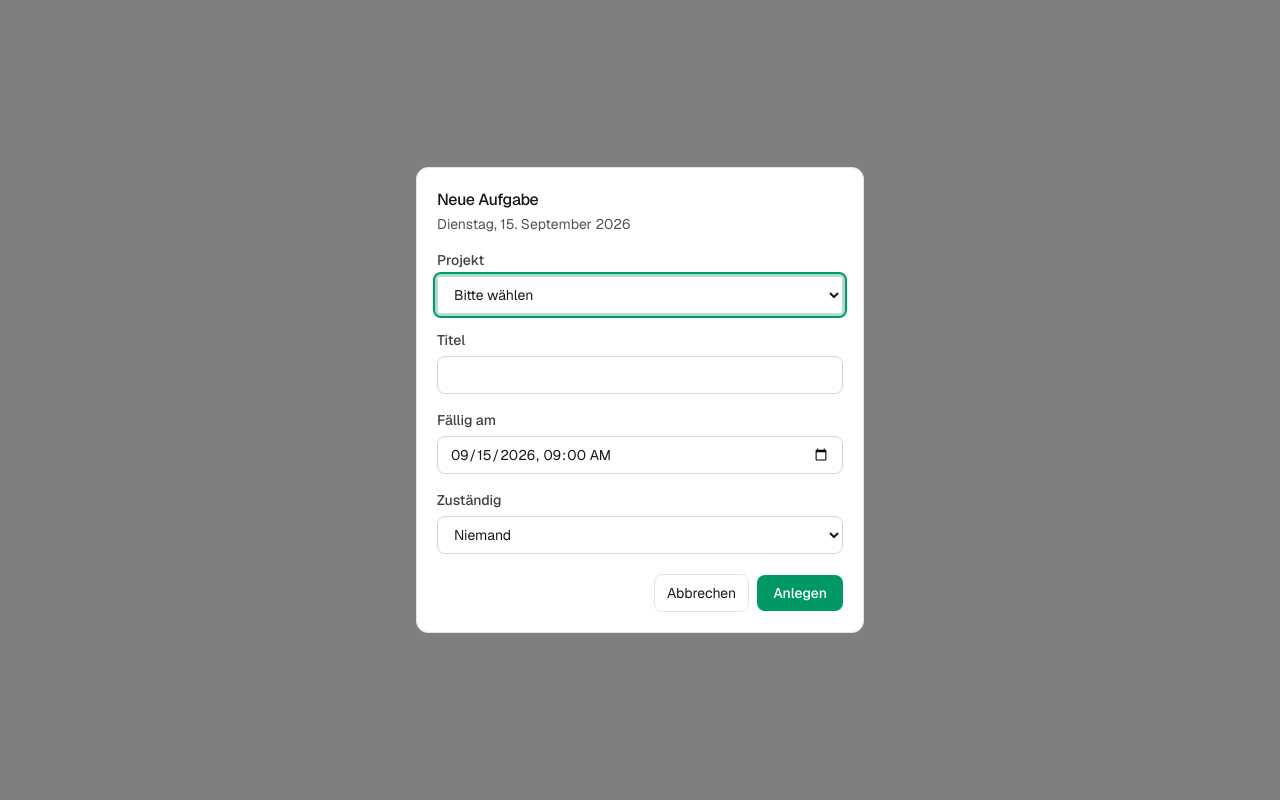
Scenario: TerminDialog › legt nichts an, solange kein Projekt gewaehlt ist
In the field labelled "Titel": x=640, y=375 437,356 -> 843,394, type "Abgabe"
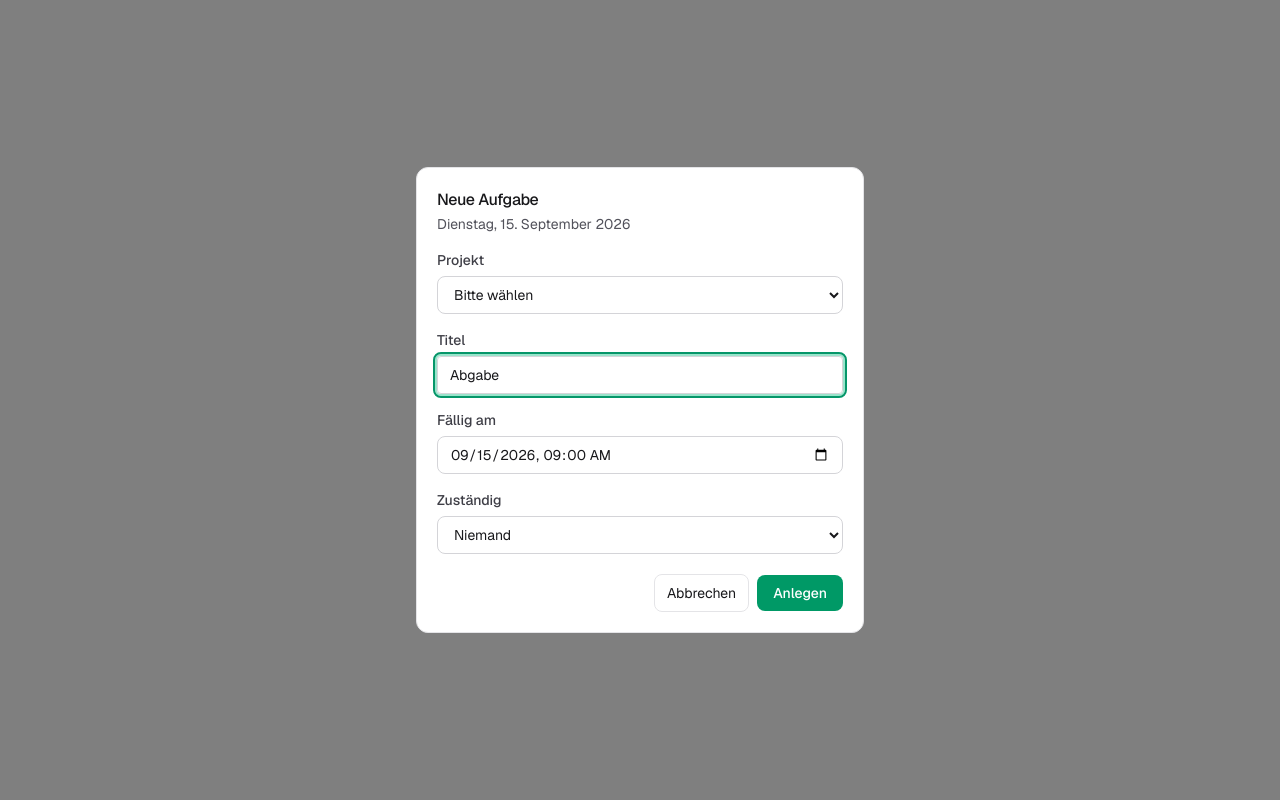
Click the button "Anlegen": x=800, y=593 757,575 -> 843,611
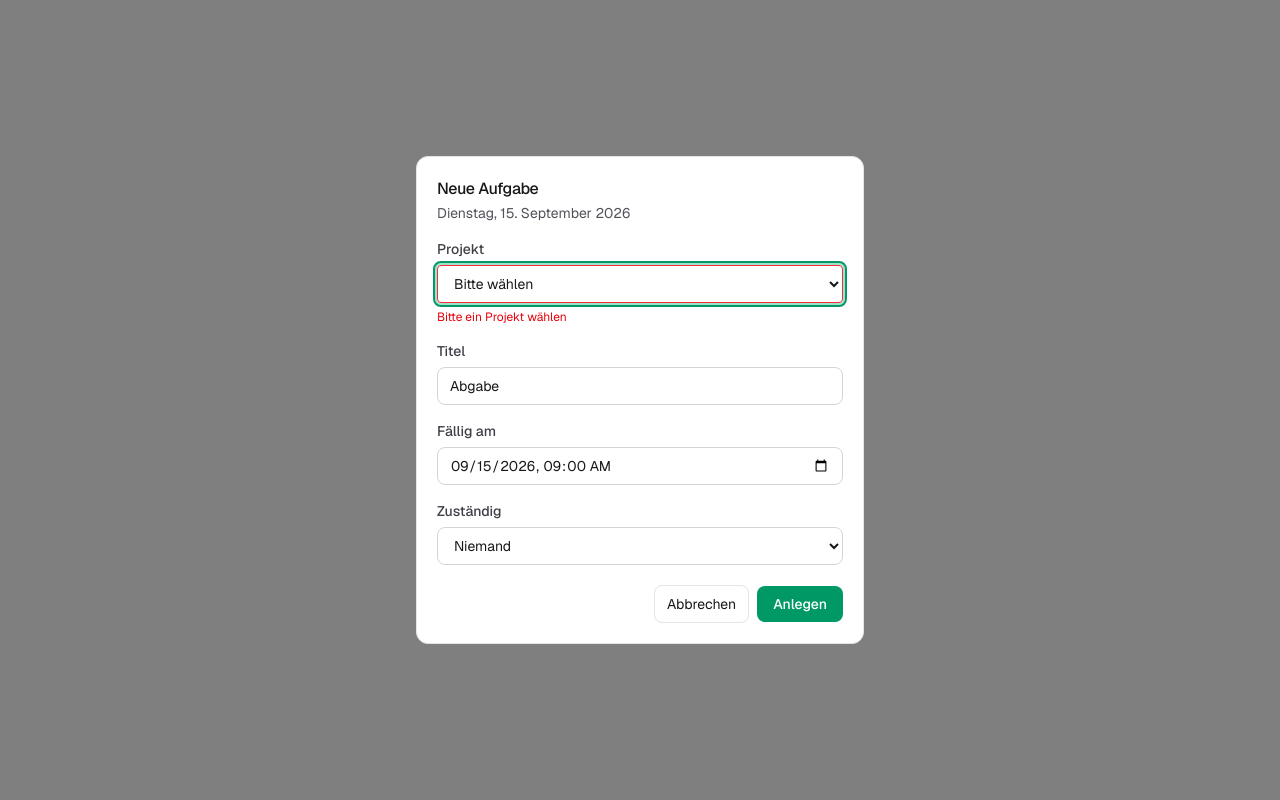
Now the text "Bitte ein Projekt wählen" is shown, box 437,309 -> 567,325
